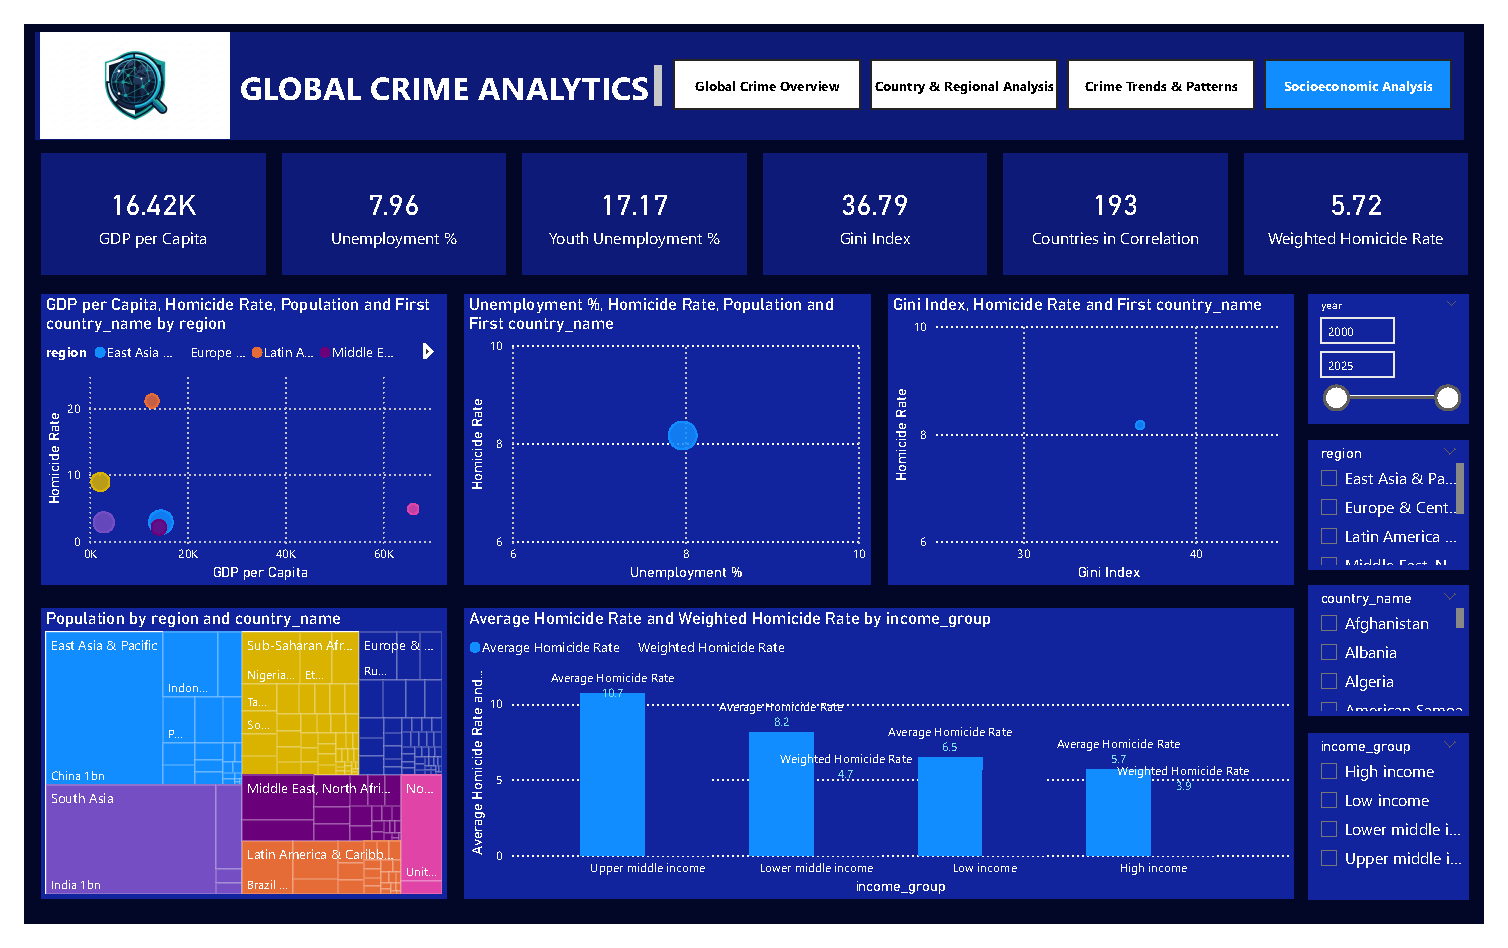

Layout of this report page (visuals, bound fields, positions):
{"tool":"powerbi","page":{"name":"Socioeconomic Analysis","canvas":[1460,900],"ordinal":3},"visuals":[{"type":"shape","box":[11.4,7.6,1429.1,108.5],"z":0},{"type":"card","fields":{"Values":["Global_Crime_Analytics_Master.GDP per Capita"]},"box":[17.3,129.4,224.5,121.8],"z":0,"group":"g1"},{"type":"scatterChart","fields":{"X":["Global_Crime_Analytics_Master.GDP per Capita"],"Y":["Global_Crime_Analytics_Master.Homicide Rate"],"Size":["Global_Crime_Analytics_Master.Population"],"Series":["Global_Crime_Analytics_Master.region"]},"box":[17.2,270.2,406.2,291.2],"z":0,"group":"g2"},{"type":"treemap","fields":{"Group":["Global_Crime_Analytics_Master.region"],"Details":["Global_Crime_Analytics_Master.country_name"],"Values":["Global_Crime_Analytics_Master.Population"]},"box":[17.2,584.4,406.2,291.2],"z":0,"group":"g3"},{"type":"image","box":[17.1,3.8,188.4,116.1],"z":1000},{"type":"card","fields":{"Values":["Global_Crime_Analytics_Master.Unemployment %"]},"box":[257.8,129.4,224.5,121.8],"z":1000,"group":"g1"},{"type":"scatterChart","fields":{"X":["Global_Crime_Analytics_Master.Unemployment %"],"Y":["Global_Crime_Analytics_Master.Homicide Rate"],"Size":["Global_Crime_Analytics_Master.Population"]},"box":[440.6,270.2,406.2,291.2],"z":1000,"group":"g2"},{"type":"clusteredColumnChart","fields":{"Category":["Global_Crime_Analytics_Master.income_group"],"Y":["Global_Crime_Analytics_Master.Average Homicide Rate","Global_Crime_Analytics_Master.Weighted Homicide Rate"]},"box":[440.2,584.3,829.6,291.2],"z":1000,"group":"g3"},{"type":"textbox","box":[205.5,36.2,437.7,51.4],"z":2000},{"type":"card","fields":{"Values":["Global_Crime_Analytics_Master.Youth Unemployment %"]},"box":[498.3,129.4,224.5,121.8],"z":2000,"group":"g1"},{"type":"scatterChart","fields":{"X":["Global_Crime_Analytics_Master.Gini Index"],"Y":["Global_Crime_Analytics_Master.Homicide Rate"]},"box":[864.1,270.2,406.2,291.2],"z":2000,"group":"g2"},{"type":"group","id":"g1","title":"Group 1","box":[17.3,129.4,1427.2,121.8],"z":3000},{"type":"card","fields":{"Values":["Global_Crime_Analytics_Master.Gini Index"]},"box":[738.9,129.4,224.5,121.8],"z":3000,"group":"g1"},{"type":"card","fields":{"Values":["Global_Crime_Analytics_Master.Countries in Correlation"]},"box":[979.4,129.4,224.5,121.8],"z":4000,"group":"g1"},{"type":"group","id":"g2","title":"Group 2","box":[17.2,270.2,1253.1,291.2],"z":4000},{"type":"card","fields":{"Values":["Global_Crime_Analytics_Master.Weighted Homicide Rate"]},"box":[1219.9,129.4,224.5,121.8],"z":5000,"group":"g1"},{"type":"group","id":"g3","title":"Group 2","box":[17.2,584.3,1252.6,291.3],"z":5000},{"type":"slicer","fields":{"Values":["Global_Crime_Analytics_Master.year"]},"box":[1283.7,270.2,160.9,130.3],"z":6000},{"type":"slicer","fields":{"Values":["Global_Crime_Analytics_Master.region"]},"box":[1283.7,415.8,160.9,130.3],"z":7000},{"type":"slicer","fields":{"Values":["Global_Crime_Analytics_Master.country_name"]},"box":[1283.7,561.4,160.9,130.3],"z":8000},{"type":"slicer","fields":{"Values":["Global_Crime_Analytics_Master.income_group"]},"box":[1283.7,708.9,160.9,166.7],"z":9000},{"type":"pageNavigator","box":[649.5,36.4,781.7,49.8],"z":10000}]}

Visuals, with their boxes in screenshot pixels (x1, y1, x2, y2), scaled from the page's 1460x900 canvas onto the 1508x948 screenshot:
shape: x1=12 y1=8 x2=1488 y2=122
card - Global_Crime_Analytics_Master.GDP per Capita: x1=18 y1=136 x2=250 y2=265
scatterChart - Global_Crime_Analytics_Master.GDP per Capita x Global_Crime_Analytics_Master.Homicide Rate: x1=18 y1=285 x2=437 y2=591
treemap - Global_Crime_Analytics_Master.region x Global_Crime_Analytics_Master.country_name: x1=18 y1=616 x2=437 y2=922
image: x1=18 y1=4 x2=212 y2=126
card - Global_Crime_Analytics_Master.Unemployment %: x1=266 y1=136 x2=498 y2=265
scatterChart - Global_Crime_Analytics_Master.Unemployment % x Global_Crime_Analytics_Master.Homicide Rate: x1=455 y1=285 x2=875 y2=591
clusteredColumnChart - Global_Crime_Analytics_Master.income_group x Global_Crime_Analytics_Master.Average Homicide Rate: x1=455 y1=615 x2=1312 y2=922
textbox: x1=212 y1=38 x2=664 y2=92
card - Global_Crime_Analytics_Master.Youth Unemployment %: x1=515 y1=136 x2=747 y2=265
scatterChart - Global_Crime_Analytics_Master.Gini Index x Global_Crime_Analytics_Master.Homicide Rate: x1=893 y1=285 x2=1312 y2=591
"Group 1" group: x1=18 y1=136 x2=1492 y2=265
card - Global_Crime_Analytics_Master.Gini Index: x1=763 y1=136 x2=995 y2=265
card - Global_Crime_Analytics_Master.Countries in Correlation: x1=1012 y1=136 x2=1243 y2=265
"Group 2" group: x1=18 y1=285 x2=1312 y2=591
card - Global_Crime_Analytics_Master.Weighted Homicide Rate: x1=1260 y1=136 x2=1492 y2=265
"Group 2" group: x1=18 y1=615 x2=1312 y2=922
slicer - Global_Crime_Analytics_Master.year: x1=1326 y1=285 x2=1492 y2=422
slicer - Global_Crime_Analytics_Master.region: x1=1326 y1=438 x2=1492 y2=575
slicer - Global_Crime_Analytics_Master.country_name: x1=1326 y1=591 x2=1492 y2=729
slicer - Global_Crime_Analytics_Master.income_group: x1=1326 y1=747 x2=1492 y2=922
pageNavigator: x1=671 y1=38 x2=1478 y2=91
